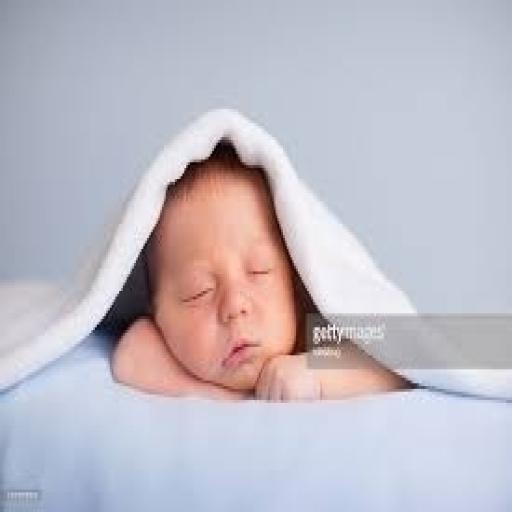sleeping: (106, 137, 417, 406)
